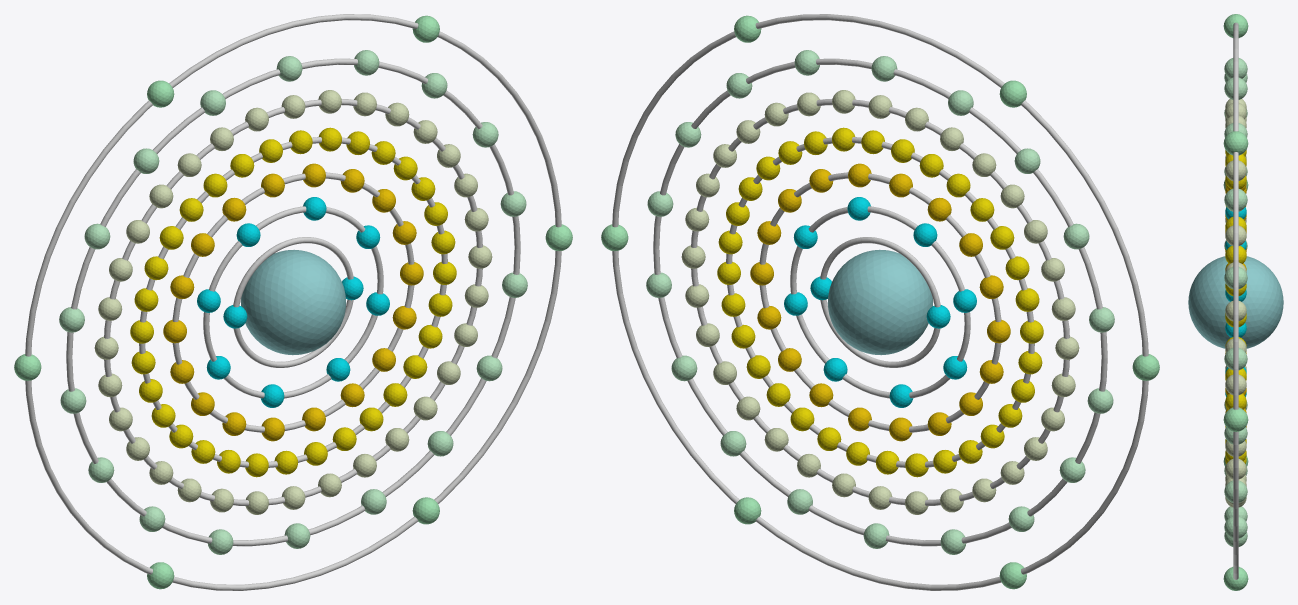
3 renders of one model, left to right at view 1: azimuth 30°, elevation 25°; view 2: azimuth 150°, elevation 25°; view 3: azimuth 270°, elevation 25°, orthographic. The views are drawn at different scales.
Parts seen in each view (by area): view 1: world; view 2: world; view 3: world.
Boxes of the visible parts, <box> form: world: <box>14,14,572,590</box>; world: <box>601,14,1159,590</box>; world: <box>1188,14,1283,590</box>.
Size of the model in its own units: 2.67 by 2.59 by 0.44.
